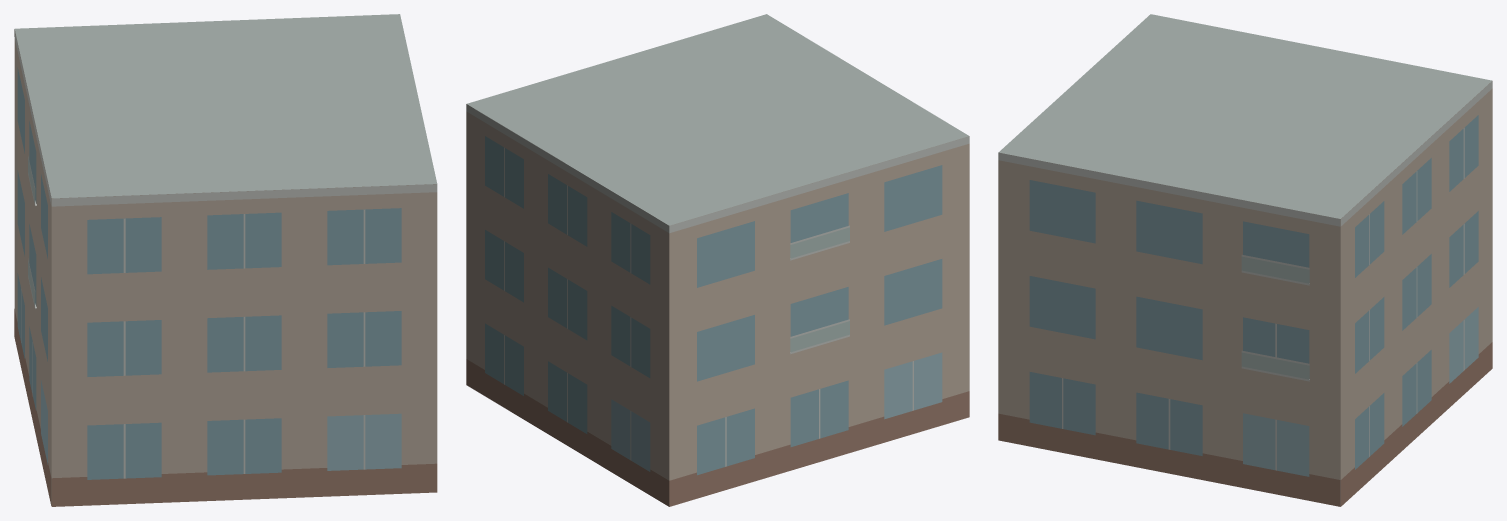
File: survey-upis-32809718.glb
3 renders of one model, left to right at view 1: azimuth 30°, elevation 25°; view 2: azimuth 150°, elevation 25°; view 3: azimuth 270°, elevation 25°, orthographic. The views are drawn at different scales.
Parts seen in each view (by area): view 1: survey-upis-32809718.tmp; view 2: survey-upis-32809718.tmp; view 3: survey-upis-32809718.tmp.
Boxes of the visible parts, x1,y1,x2,y2 form: survey-upis-32809718.tmp: [14, 14, 437, 506]; survey-upis-32809718.tmp: [466, 14, 969, 506]; survey-upis-32809718.tmp: [998, 14, 1492, 506].
Bounding box in the file's own units: 13.99 × 9.15 × 14.25.
